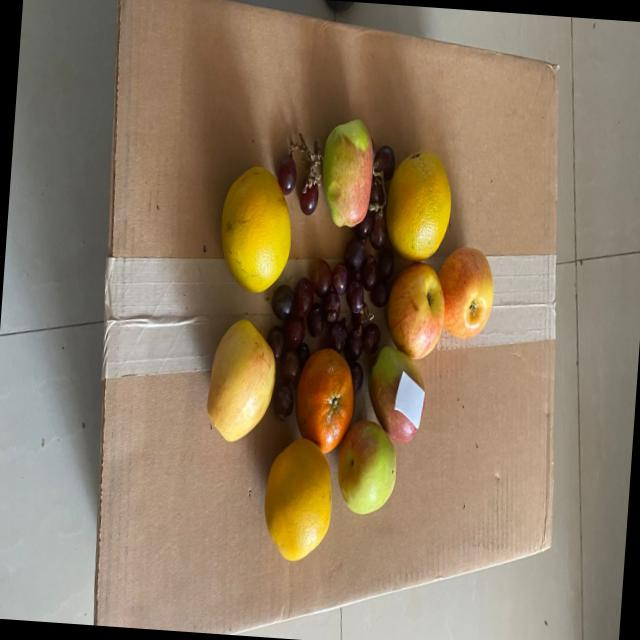hoja: (392, 366, 430, 430)
